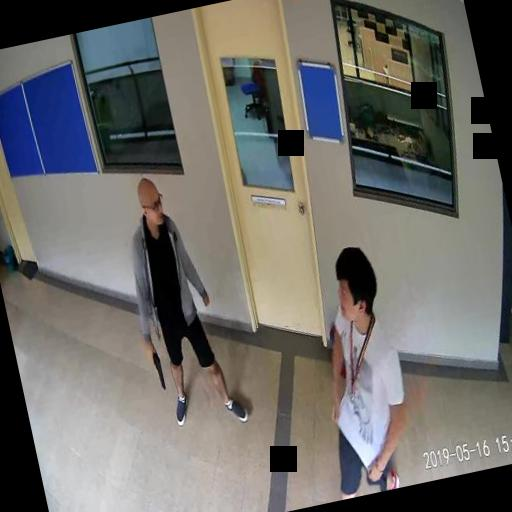Handgun: (146, 345, 164, 389)
